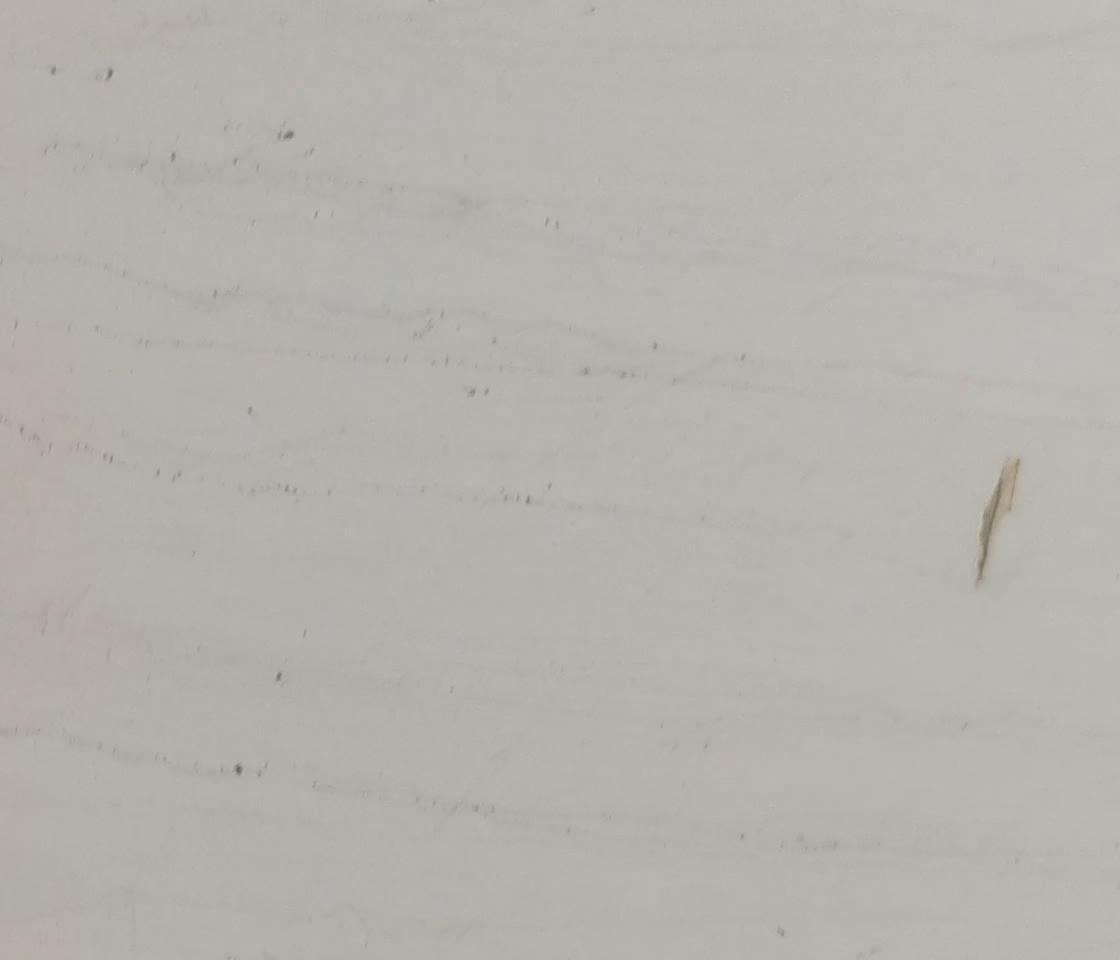scratch: (974, 455, 1010, 597)
